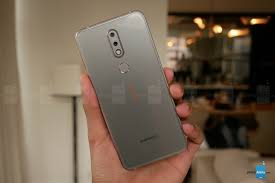nokia: (72, 9, 189, 173)
